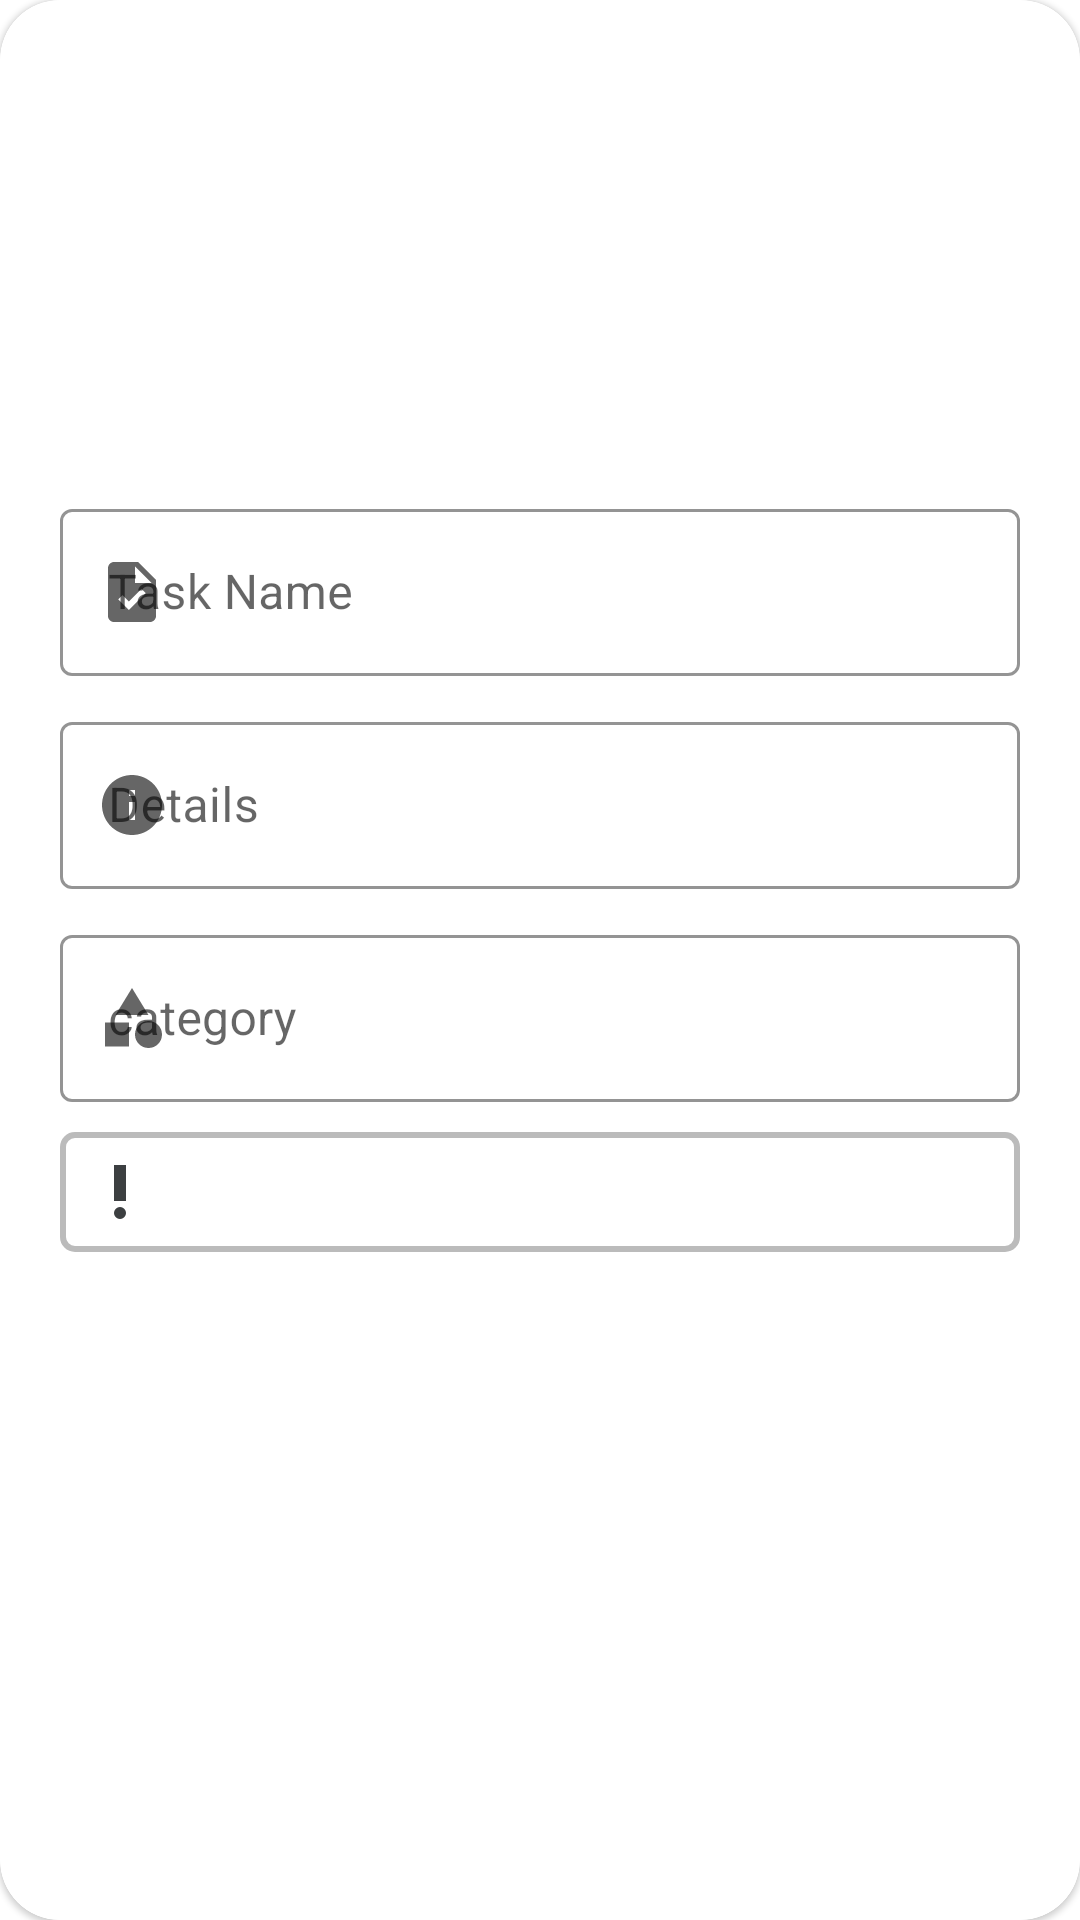

Screen size 1080px x 1920px. Icon name, then its box in pixels as (left=x1, top=y1, right=x2, bottom=y2):
Priority Icon: (left=114, top=1165, right=126, bottom=1219)
